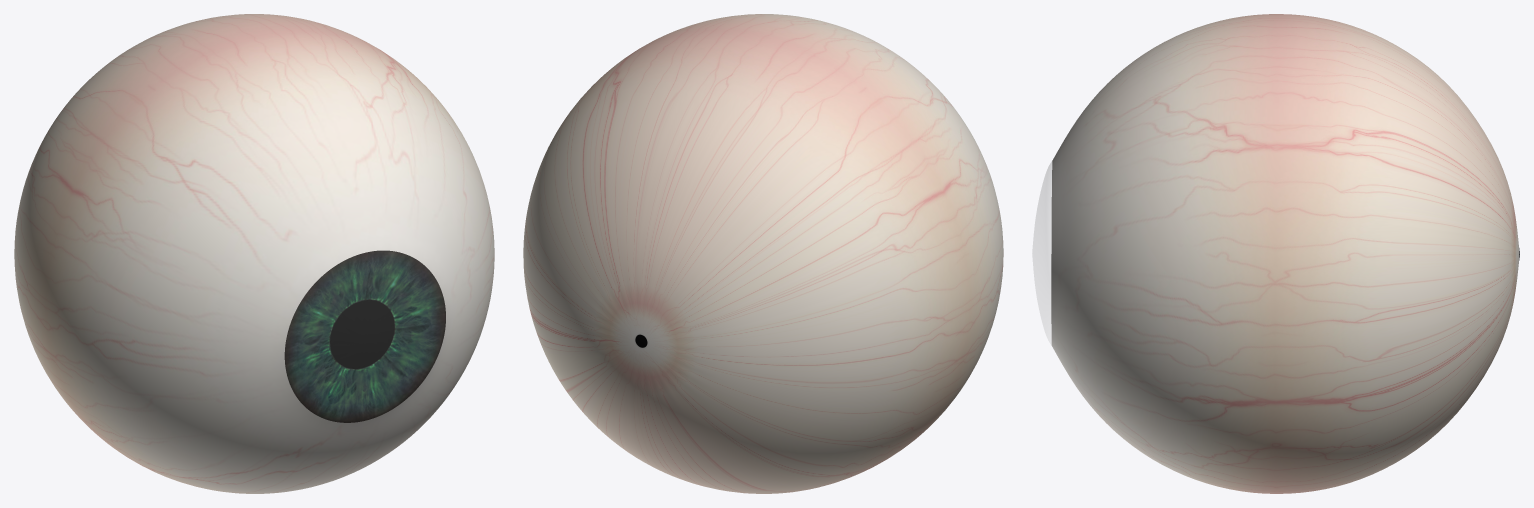
File: eyeball.obj
3 renders of one model, left to right at view 1: azimuth 30°, elevation 25°; view 2: azimuth 150°, elevation 25°; view 3: azimuth 270°, elevation 25°, orthographic.
Parts seen in each view (by area): view 1: eye_white, eye_tranz, eye_iris, eye_black; view 2: eye_white; view 3: eye_white, eye_tranz.
Boxes of the visible parts, x1=… form: eye_white: x1=14, y1=14, x2=494, y2=493; eye_tranz: x1=285, y1=251, x2=445, y2=422; eye_iris: x1=284, y1=250, x2=445, y2=422; eye_black: x1=330, y1=300, x2=394, y2=368; eye_white: x1=523, y1=14, x2=1003, y2=493; eye_white: x1=1051, y1=14, x2=1519, y2=493; eye_tranz: x1=1032, y1=162, x2=1051, y2=344.
Size of the model in its own units: 3.86 by 3.86 by 3.92.
Materials: 4 (4 with a texture image).
